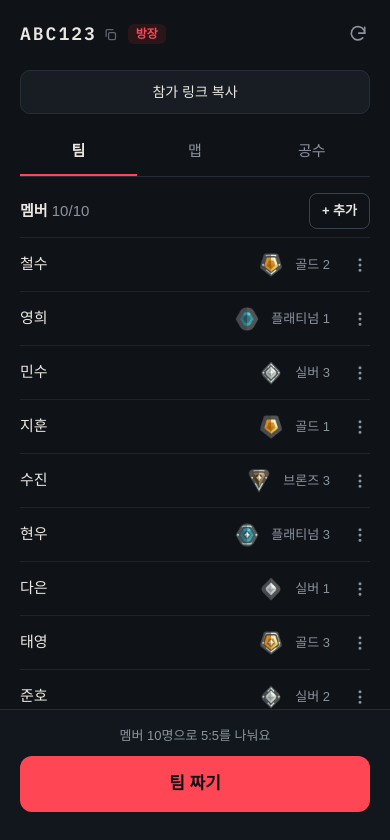
Test: 같은 팀 묶기 › 묶음 풀기 · 묶음을 바꾸기 전에 짠 팀이 갈라져 있으면 경고
This screenshot has width=390, height=840.
Click the button "팀 짜기" at (195, 784), box [20,756,370,812]
(page scrolled)
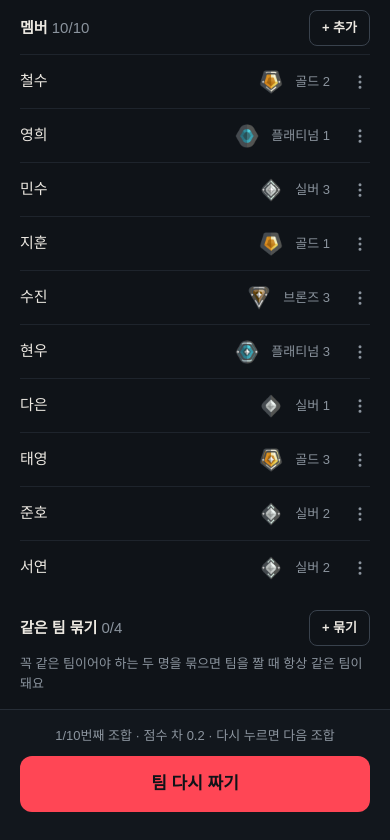
Click the button "+ 묶기" at (339, 628), box [309,610,370,646]
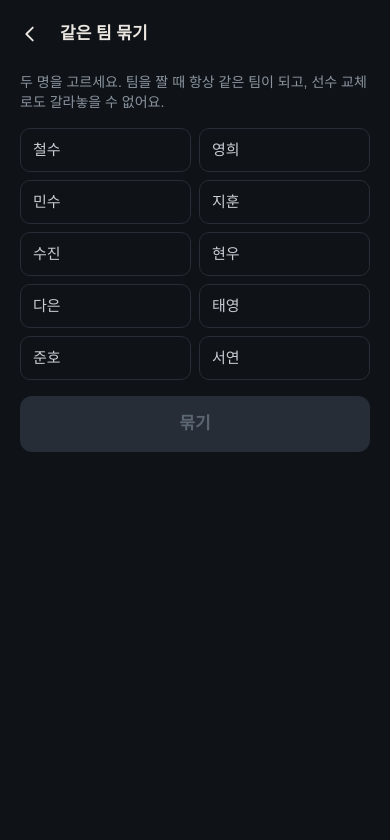
Click the button "철수" at (106, 150), box [20,128,191,172]
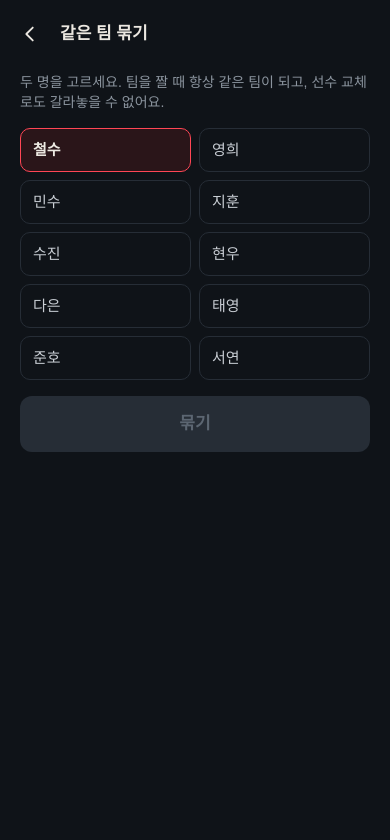
Click the button "현우" at (284, 254), box [199,232,370,276]
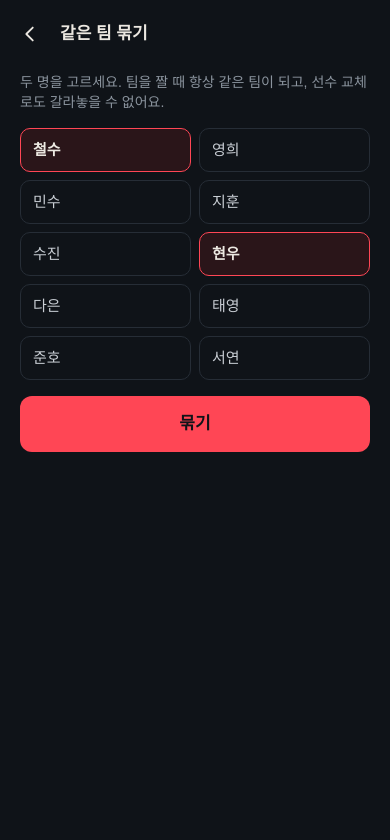
Click the button "묶기" at (195, 424), box [20,396,370,452]
(page scrolled)
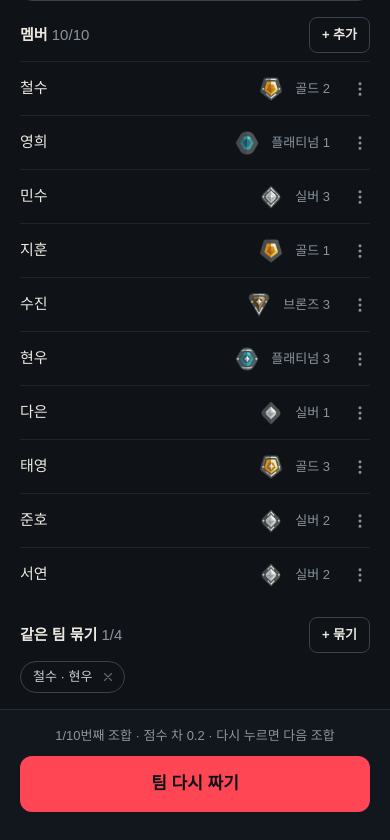
Click the button named "철수 · 현우 묶음 풀기" at (108, 677), box [96,665,120,689]
(page scrolled)
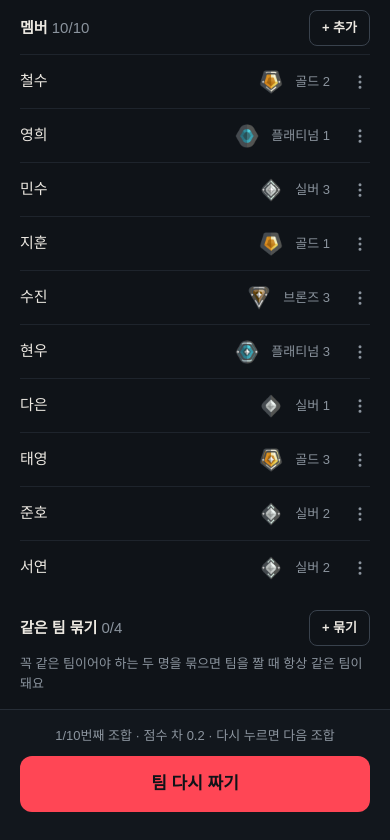
Result: the text "묶었지만 다른 팀이에요" is not shown
